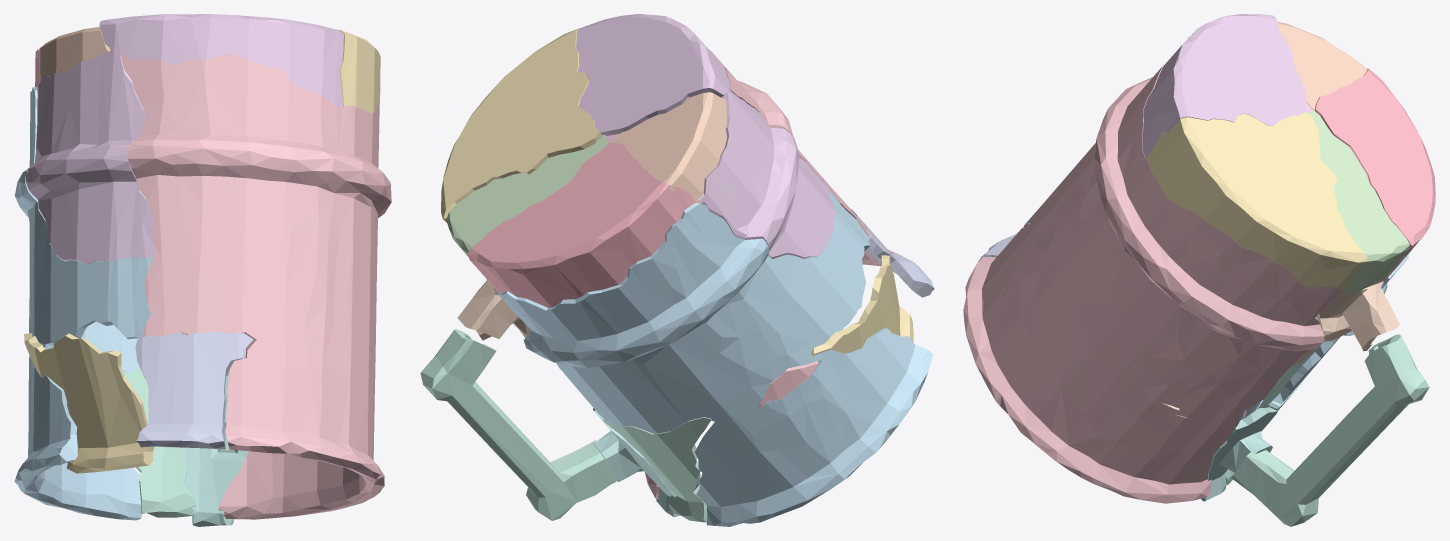
Rendered from 37f56901_colored.glb.
3 views of the same model, side by side, from view 1: azimuth 30°, elevation 25°; view 2: azimuth 150°, elevation 25°; view 3: azimuth 270°, elevation 25° (orthographic). The views are drawn at different scales.
Visible parts, largest first — view 1: world; view 2: world; view 3: world.
Boxes of the visible parts, x1=… form: world: x1=14, y1=14, x2=391, y2=526; world: x1=420, y1=14, x2=934, y2=526; world: x1=963, y1=14, x2=1435, y2=526.
Bounding box in the file's own units: 0.7905 × 0.9463 × 0.8739.
